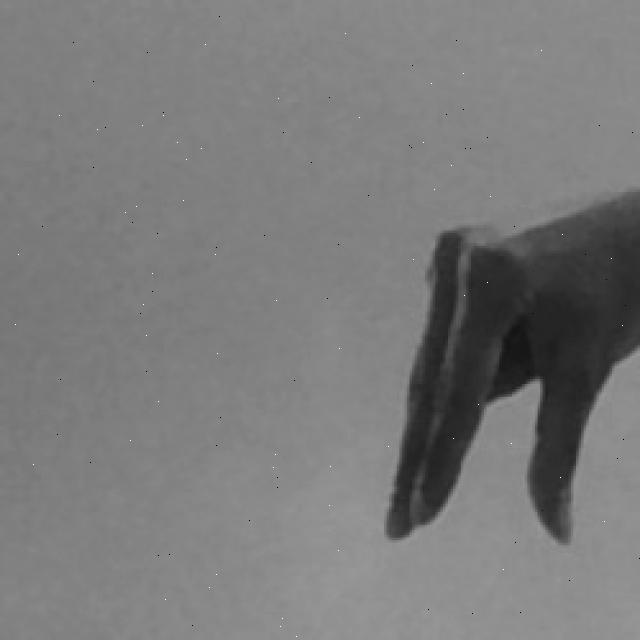Q: (378, 175, 640, 548)
